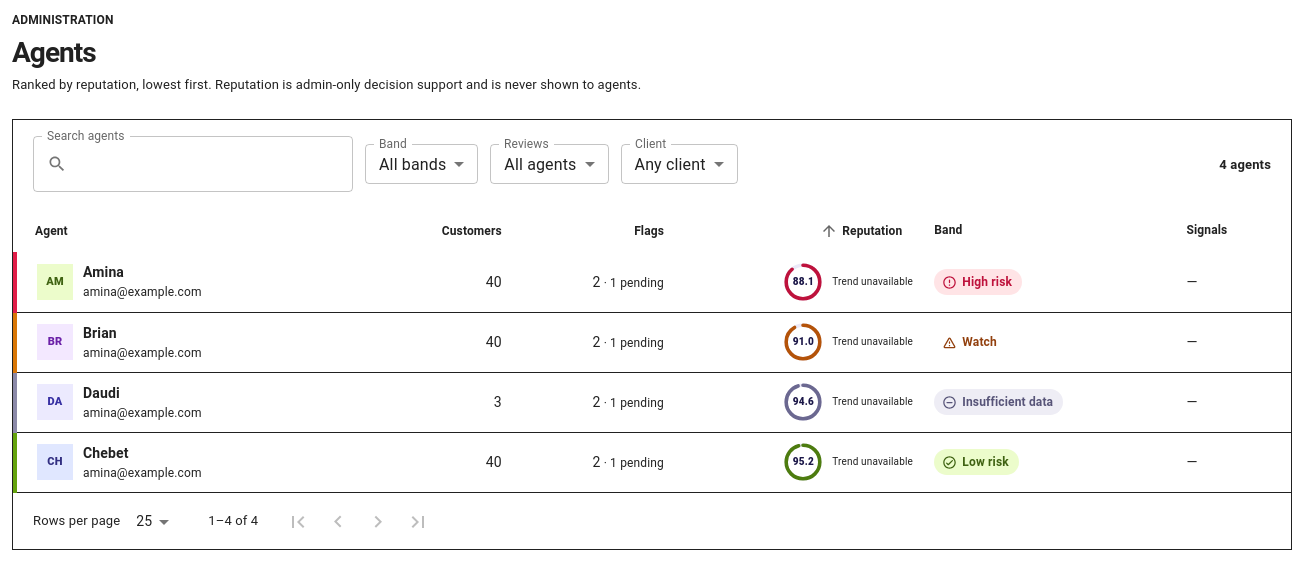
Test: agents ranking › shows every band as a text badge and filters by band
Expected: the text "Amina" is shown, [83,264,124,280]
Expected: the text "High risk" is shown, [934,269,1022,295]
Click the dropdown labelled "All bands".
click(413, 164)  # box [379,155,446,174]
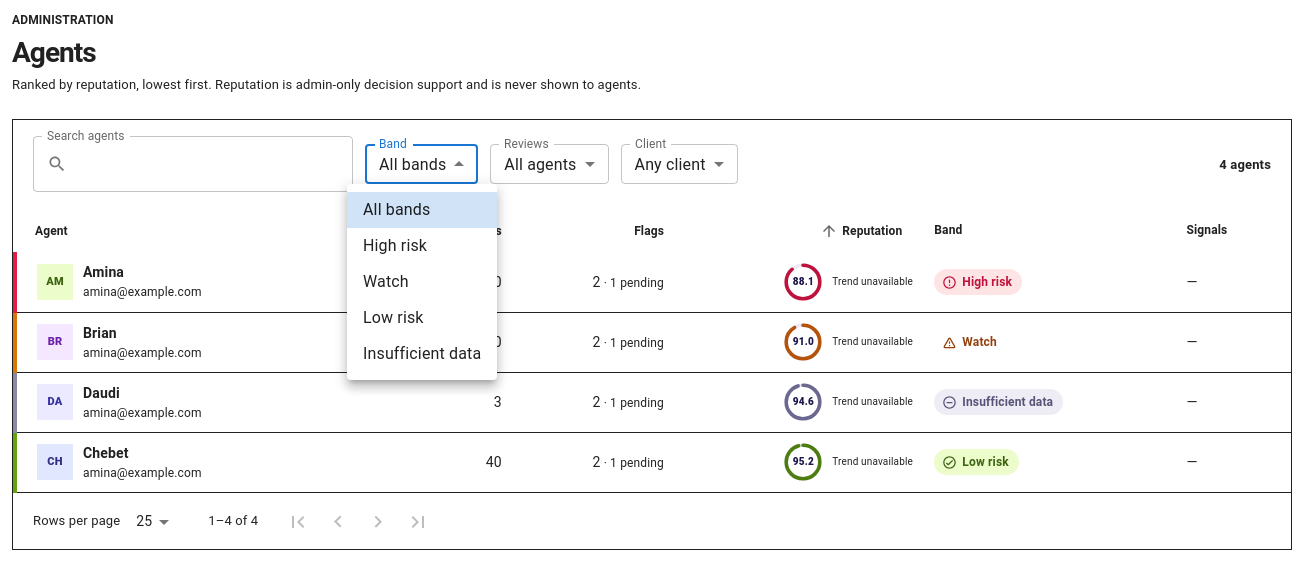
Click the option "Watch".
click(386, 282)  # box [363,272,409,291]
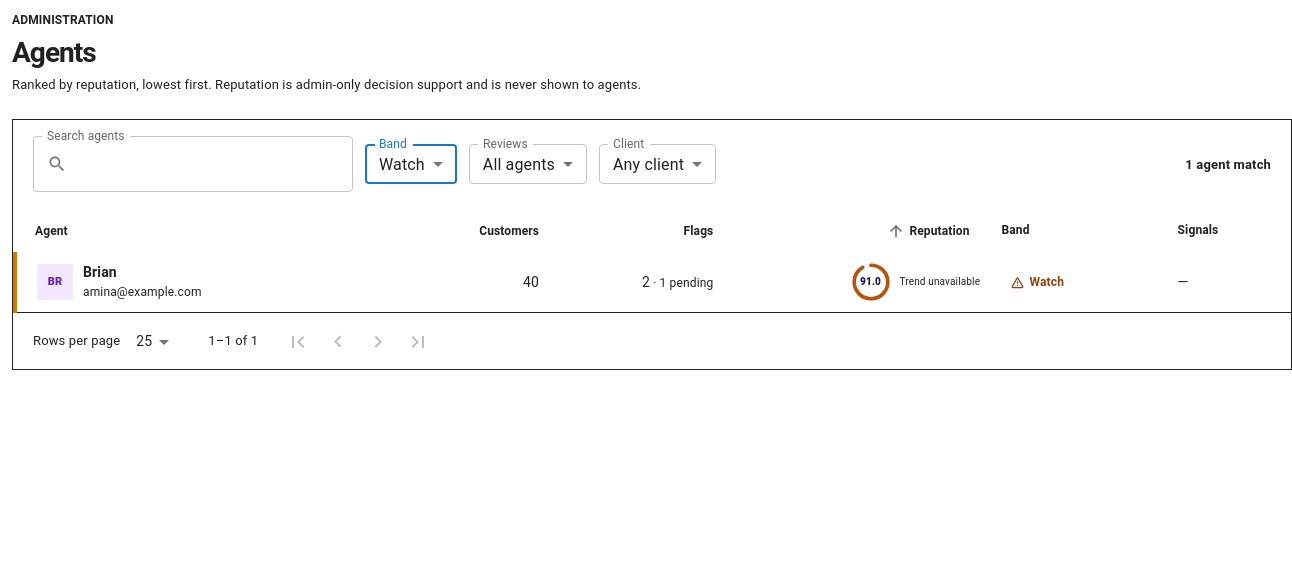
Expected: the message reads "1 agent match", [1185,156,1271,172]
